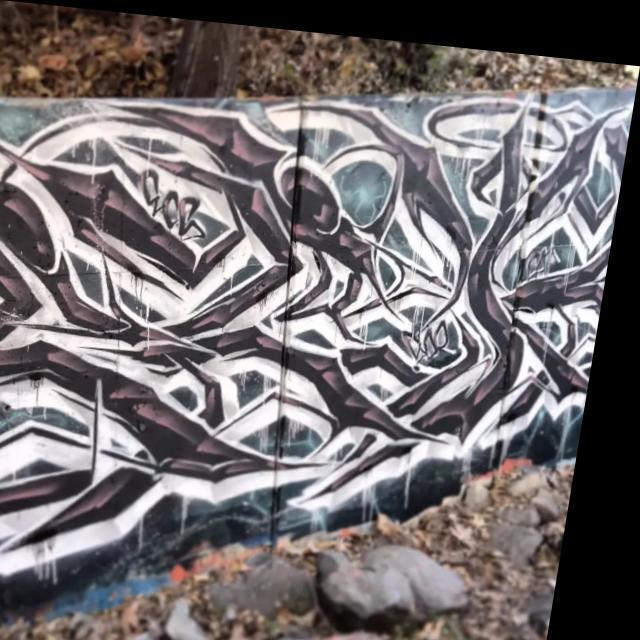nonspitting: (2, 97, 623, 556)
